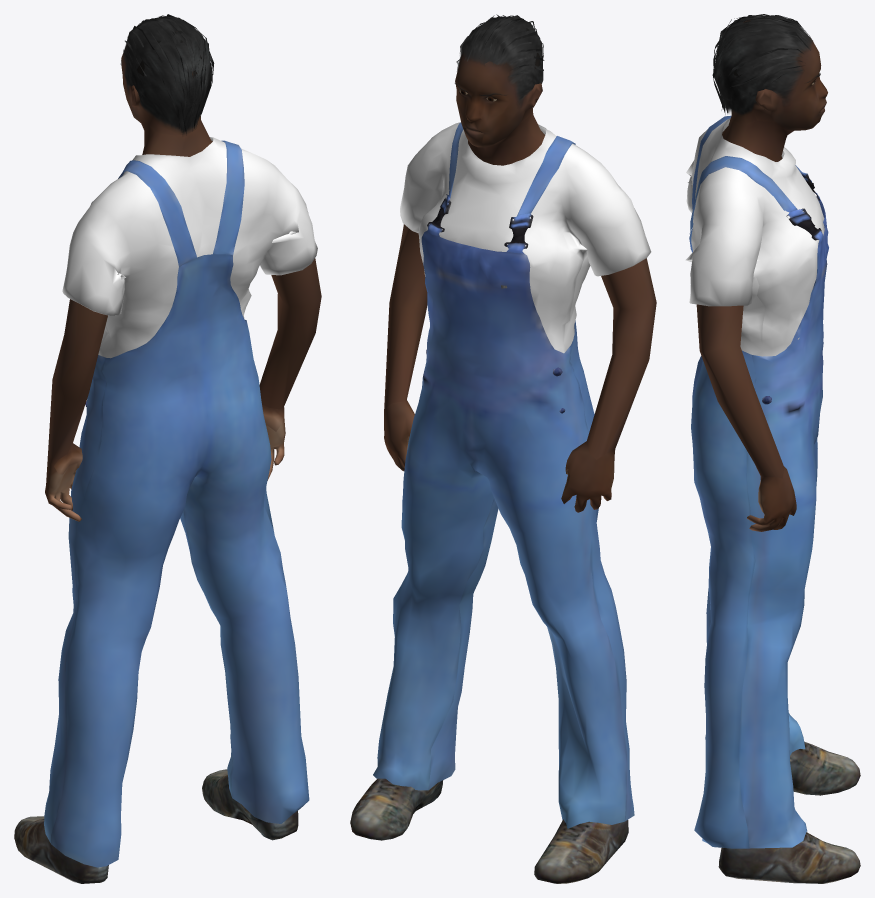
Rendered from mechanic_overalls_standing.glb.
3 views of the same model, side by side, from view 1: azimuth 30°, elevation 25°; view 2: azimuth 150°, elevation 25°; view 3: azimuth 270°, elevation 25° (orthographic). The views are drawn at different scales.
Parts seen in each view (by area): view 1: Human_atlas; view 2: Human_atlas; view 3: Human_atlas.
Boxes of the visible parts, bbox=[...] form: Human_atlas: bbox=[14, 14, 321, 883]; Human_atlas: bbox=[350, 14, 656, 883]; Human_atlas: bbox=[685, 14, 860, 883].
Size of the model in its own units: 0.5619 by 1.71 by 0.3332.
1 material, 1 textured.
